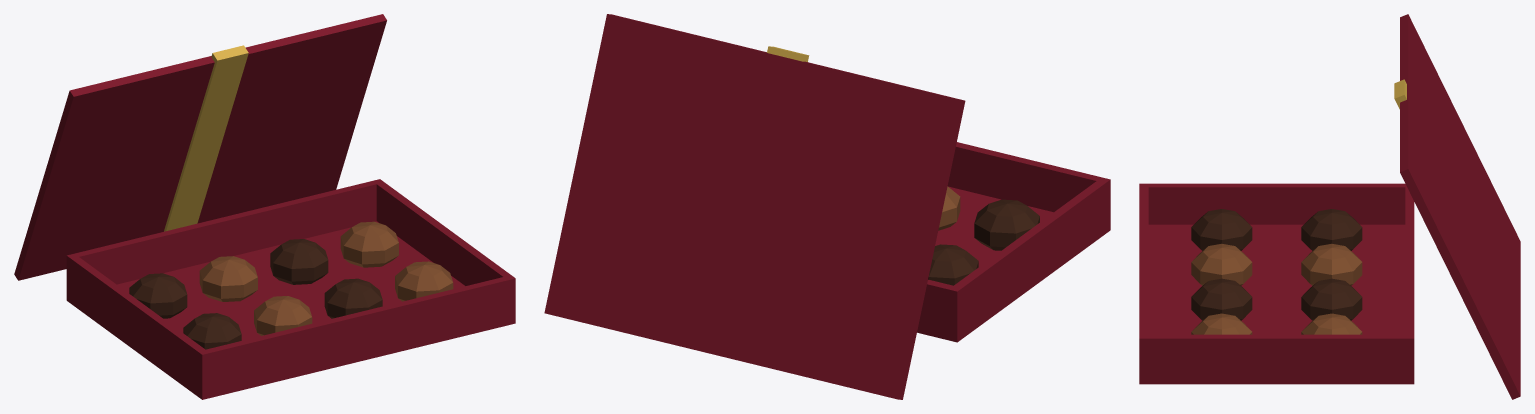
File: chocolate_box.glb
The picture shows the model from 3 angles, left to right: view 1: azimuth 30°, elevation 25°; view 2: azimuth 150°, elevation 25°; view 3: azimuth 270°, elevation 25°; orthographic projection. The views are drawn at different scales.
Visible parts, largest first — view 1: lid_chocolate_box, box_chocolate_box, lid_ribbon_gold, donut_1_chocolate_milk, donut_2_chocolate_dark, donut_3_chocolate_milk, donut_0_chocolate_dark, donut_6_chocolate_dark, donut_7_chocolate_milk, donut_5_chocolate_milk, donut_4_chocolate_dark; view 2: lid_chocolate_box, box_chocolate_box, donut_4_chocolate_dark, donut_0_chocolate_dark, donut_5_chocolate_milk; view 3: box_chocolate_box, lid_chocolate_box, donut_6_chocolate_dark, donut_5_chocolate_milk, donut_0_chocolate_dark, donut_2_chocolate_dark, donut_4_chocolate_dark, donut_1_chocolate_milk, donut_3_chocolate_milk, donut_7_chocolate_milk.
Part boxes in pixels (bbox=[...]): lid_chocolate_box: bbox=[14, 14, 386, 280]; box_chocolate_box: bbox=[66, 179, 515, 399]; lid_ribbon_gold: bbox=[164, 45, 248, 231]; donut_1_chocolate_milk: bbox=[199, 256, 257, 301]; donut_2_chocolate_dark: bbox=[270, 239, 328, 284]; donut_3_chocolate_milk: bbox=[340, 221, 398, 267]; donut_0_chocolate_dark: bbox=[129, 273, 187, 318]; donut_6_chocolate_dark: bbox=[324, 278, 382, 318]; donut_7_chocolate_milk: bbox=[395, 261, 453, 301]; donut_5_chocolate_milk: bbox=[254, 296, 312, 335]; donut_4_chocolate_dark: bbox=[183, 313, 241, 349]; lid_chocolate_box: bbox=[544, 14, 965, 399]; box_chocolate_box: bbox=[917, 142, 1110, 342]; donut_4_chocolate_dark: bbox=[974, 199, 1039, 250]; donut_0_chocolate_dark: bbox=[928, 244, 978, 285]; donut_5_chocolate_milk: bbox=[938, 186, 960, 230]; box_chocolate_box: bbox=[1139, 183, 1414, 384]; lid_chocolate_box: bbox=[1400, 14, 1520, 399]; donut_6_chocolate_dark: bbox=[1191, 278, 1252, 320]; donut_5_chocolate_milk: bbox=[1191, 243, 1252, 285]; donut_0_chocolate_dark: bbox=[1301, 209, 1362, 250]; donut_2_chocolate_dark: bbox=[1301, 278, 1362, 320]; donut_4_chocolate_dark: bbox=[1191, 209, 1252, 250]; donut_1_chocolate_milk: bbox=[1301, 243, 1362, 285]; donut_3_chocolate_milk: bbox=[1301, 313, 1362, 334]; donut_7_chocolate_milk: bbox=[1191, 313, 1252, 334].
Bounding box in the file's own units: 0.4 × 0.2833 × 0.4158.
